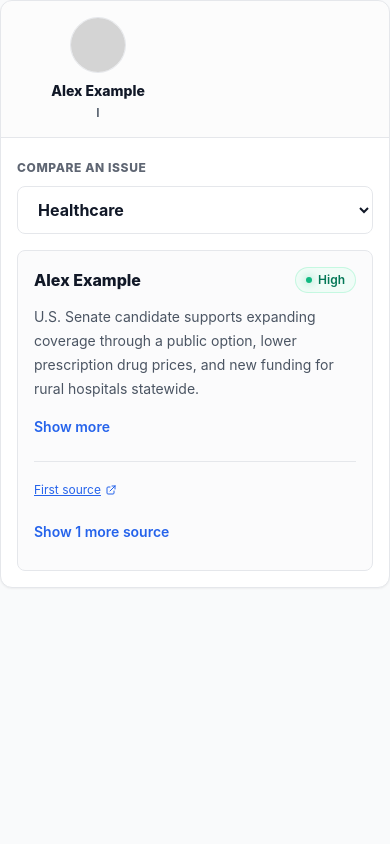
it: MobileCandidateComparison › previews a complete stance and expands its full source list
Expected: the text "U.S. Senate candidate supports expanding coverage through a public option, lower prescription drug prices, and new fundi" is shown, top-left (34, 308), bottom-right (334, 397)
Expected: the link "First source" is shown, top-left (34, 482), bottom-right (117, 497)
Click the button named "Show 1 more source for Alex Example on Healthcare" at (102, 532), box top-left (34, 510), bottom-right (169, 554)
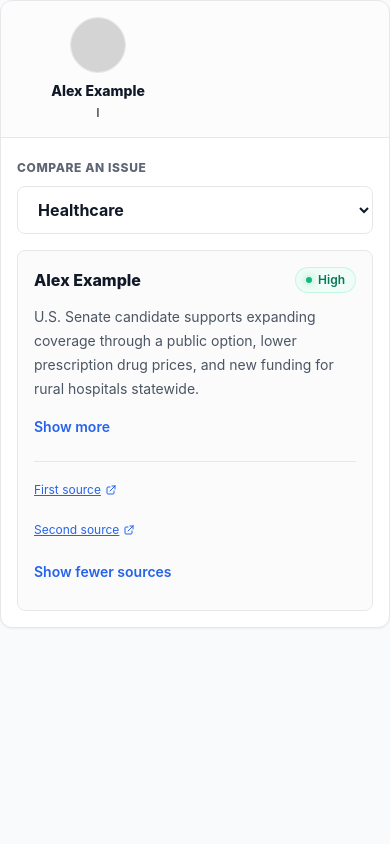
Expected: the button named "Show fewer sources for Alex Example on Healthcare" is shown, top-left (34, 550), bottom-right (172, 594)
Now the link "Second source" is shown, box top-left (34, 522), bottom-right (135, 537)
